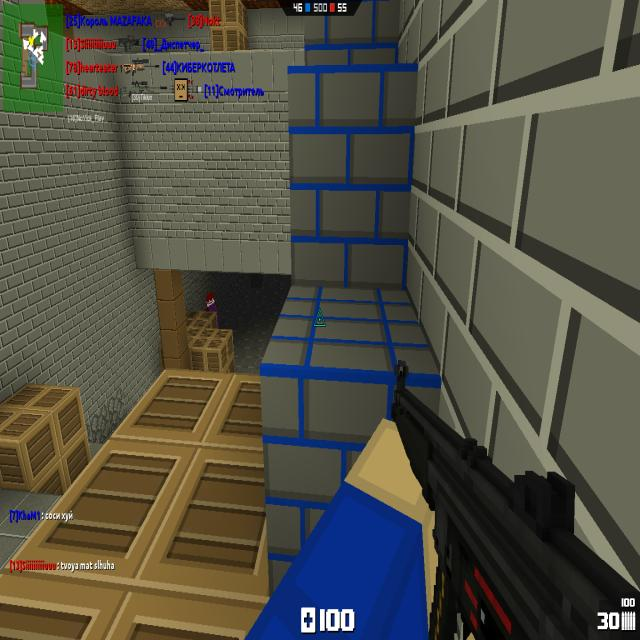enemy: (205, 291, 220, 329)
